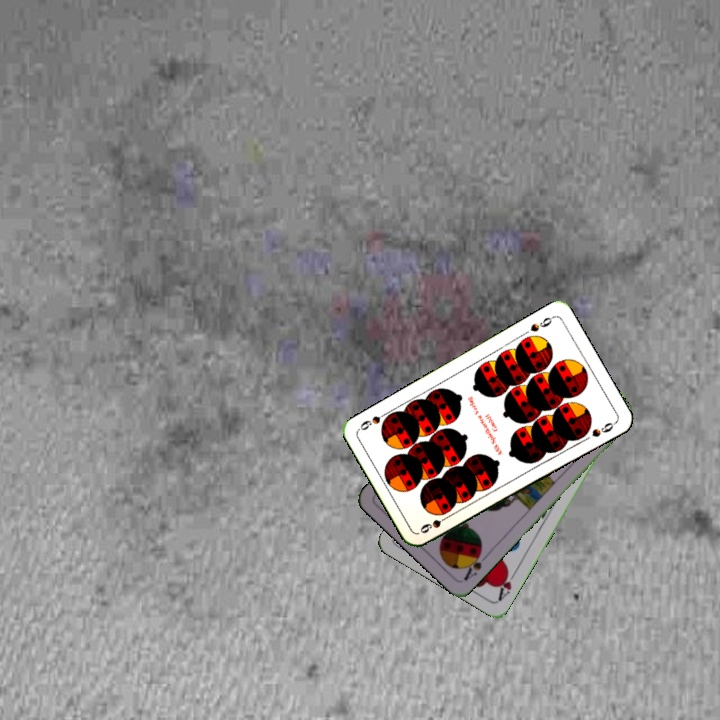HA: (494, 564, 520, 603)
S9: (416, 510, 454, 536), (526, 312, 557, 334)
SA: (459, 546, 491, 584)
